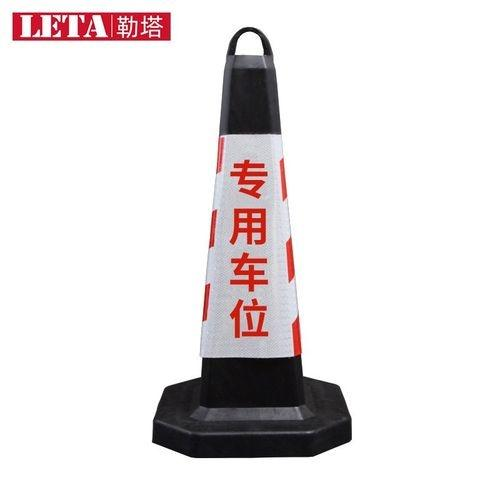cone_barrel: (166, 31, 338, 443)
